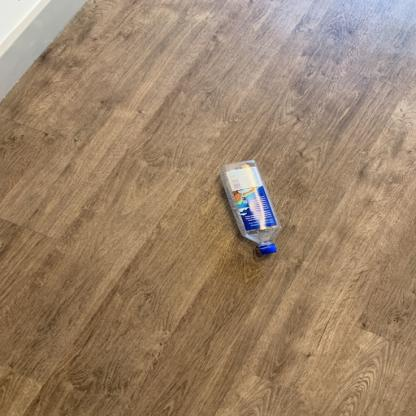trash: (219, 159, 290, 255)
